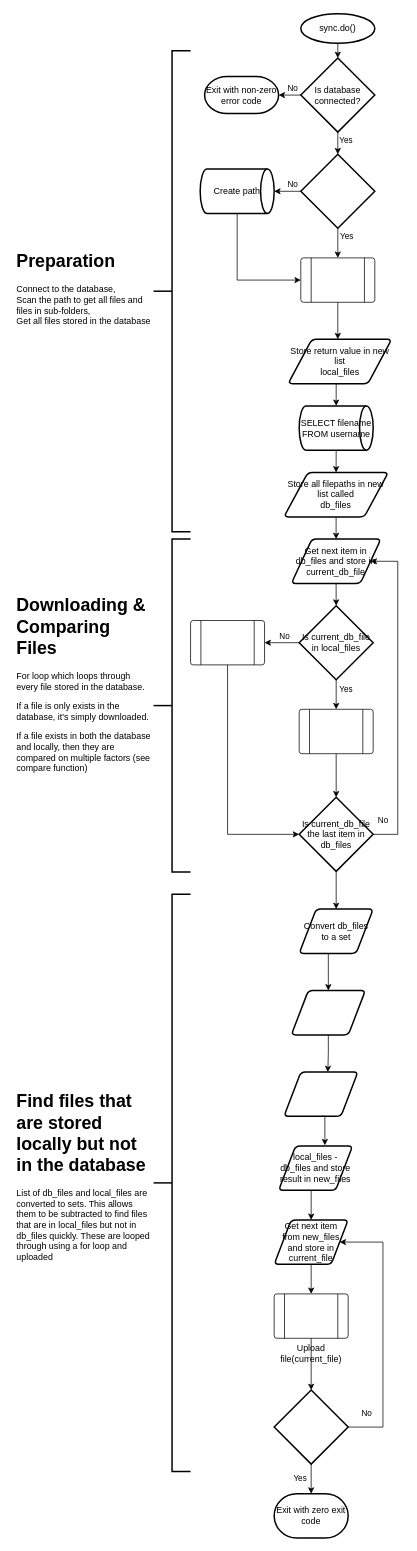
This 417x1551 diagram has some shape labels left out. The centre of each missing label's shape, as x and y in pixels:
Compare_File(current_db_file): (335,731)
Convert local_files to a set: (328,1012)
Create new variable called new_files: (320,1094)
Does sync path exist?: (337,191)
Download_File(current_db_dile): (227,642)
Is current_file the last file in new_files: (311,1426)
Scan folder of path: (337,279)
